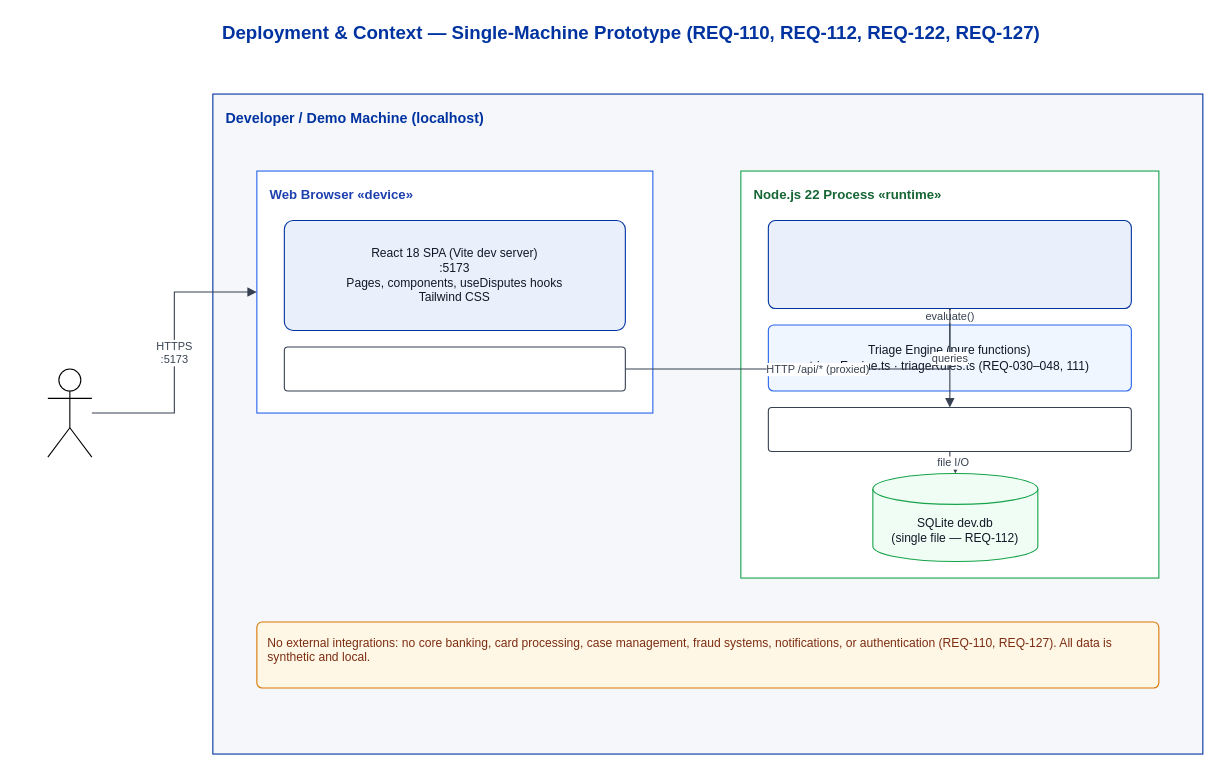
The diagram is 1222 pixels wide and 773 high, and some of its shapes have lost their labels. The shapes that lost their labels are listed below. From the top down, each one's box as (x1, y1, x2, y2) in pixels, then its label:
(767, 219, 1131, 309): Express API :3001 routes → services → rules validation + errorHandler middleware
(283, 346, 625, 391): Vite dev proxy /api/* → :3001 (no CORS)
(47, 368, 92, 457): Operations User
(767, 406, 1131, 452): Prisma ORM (disputeService.ts)
